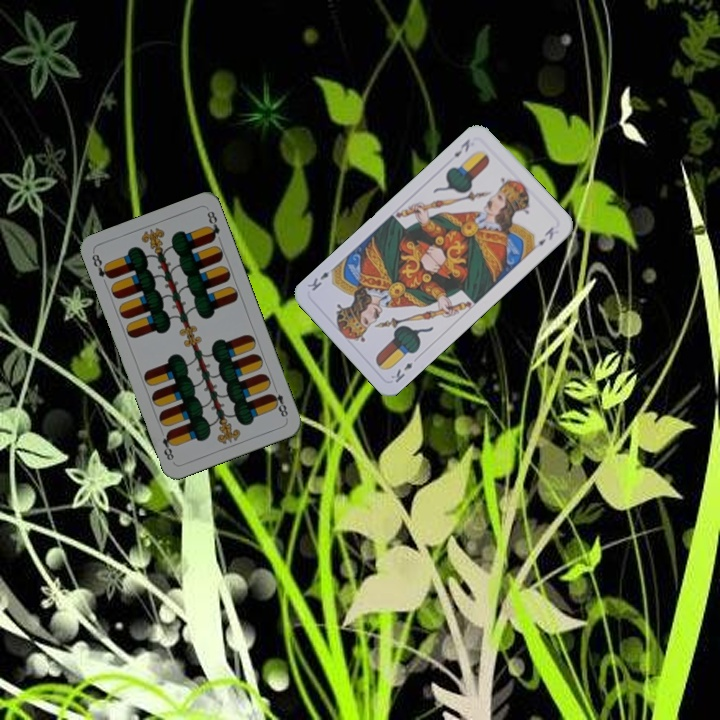E8: (266, 382, 291, 420), (88, 250, 114, 282)
EK: (386, 358, 416, 385), (450, 135, 473, 160)
